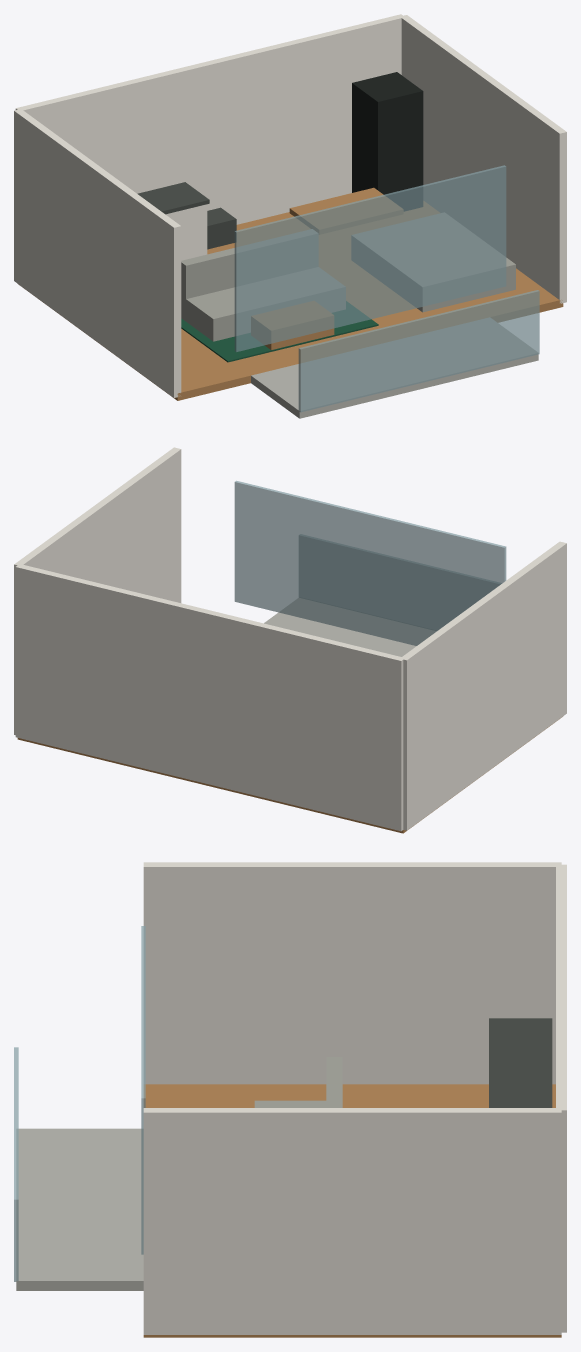
The model's file is studio.glb.
The picture shows the model from 3 angles, top to bottom: view 1: azimuth 30°, elevation 25°; view 2: azimuth 150°, elevation 25°; view 3: azimuth 270°, elevation 25°; orthographic projection. The views are drawn at different scales.
Visible parts, largest first — view 1: WALL_BACK, WINDOW_FRONT, WALL_LEFT, WALL_RIGHT, FLOOR_WOOD, BALCONY_RAIL, BALCONY, BED, FRIDGE, SOFA_BASE, SOFA_BACK, DINING_TABLE (+5 smaller); view 2: WALL_BACK, WINDOW_FRONT, WALL_LEFT, WALL_RIGHT, BALCONY_RAIL, BALCONY, FLOOR_WOOD; view 3: WALL_RIGHT, WALL_LEFT, BALCONY, FLOOR_WOOD, KITCHEN_TOP, WALL_BACK, WINDOW_FRONT, BALCONY_RAIL, SOFA_BACK.
Part boxes in pixels (<box>): WALL_BACK: <box>15,14,404,224</box>; WINDOW_FRONT: <box>234,165,506,351</box>; WALL_LEFT: <box>14,110,181,397</box>; WALL_RIGHT: <box>400,15,566,303</box>; FLOOR_WOOD: <box>18,201,563,400</box>; BALCONY_RAIL: <box>298,290,539,412</box>; BALCONY: <box>251,317,538,418</box>; BED: <box>351,212,515,312</box>; FRIDGE: <box>352,72,423,211</box>; SOFA_BASE: <box>181,267,345,341</box>; SOFA_BACK: <box>181,229,318,298</box>; DINING_TABLE: <box>289,187,403,234</box>; WALL_BACK: <box>15,564,404,831</box>; WINDOW_FRONT: <box>234,480,506,645</box>; WALL_LEFT: <box>400,541,566,830</box>; WALL_RIGHT: <box>14,447,181,734</box>; BALCONY_RAIL: <box>299,534,501,630</box>; BALCONY: <box>264,598,435,656</box>; FLOOR_WOOD: <box>17,717,561,833</box>; WALL_RIGHT: <box>143,1108,561,1334</box>; WALL_LEFT: <box>143,862,561,1084</box>; BALCONY: <box>16,1128,143,1290</box>; FLOOR_WOOD: <box>143,1084,561,1337</box>; KITCHEN_TOP: <box>489,1018,552,1107</box>; WALL_BACK: <box>556,864,566,1332</box>; WINDOW_FRONT: <box>141,926,145,1254</box>; BALCONY_RAIL: <box>14,1047,18,1281</box>; SOFA_BACK: <box>326,1057,342,1107</box>.
Size of what is drawn, in the model's own units: 6.52 by 2.76 by 6.08.
